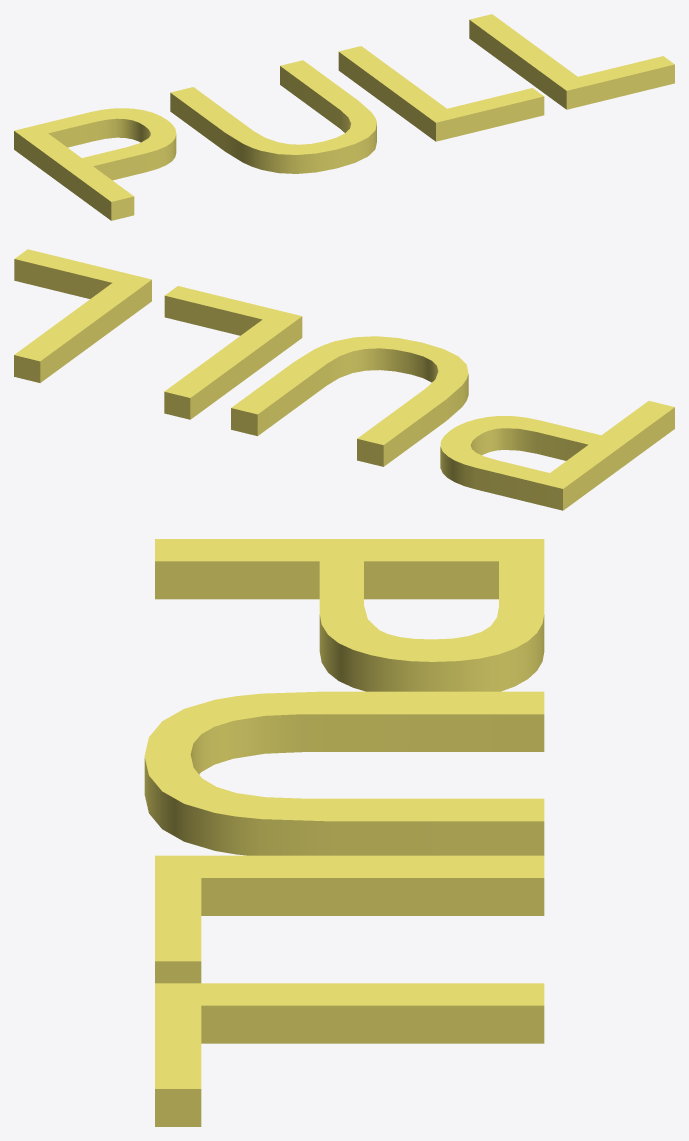
File: Pull.fbx
3 renders of one model, top to bottom at view 1: azimuth 30°, elevation 25°; view 2: azimuth 150°, elevation 25°; view 3: azimuth 270°, elevation 25°, orthographic. The views are drawn at different scales.
Parts seen in each view (by area): view 1: PULL_1_1; view 2: PULL_1_1; view 3: PULL_1_1.
Boxes of the visible parts, x1=… form: PULL_1_1: x1=14, y1=14, x2=674, y2=220; PULL_1_1: x1=14, y1=249, x2=674, y2=510; PULL_1_1: x1=144, y1=539, x2=544, y2=1126.
Bounding box in the file's own units: 31.12 × 1 × 9.56.
